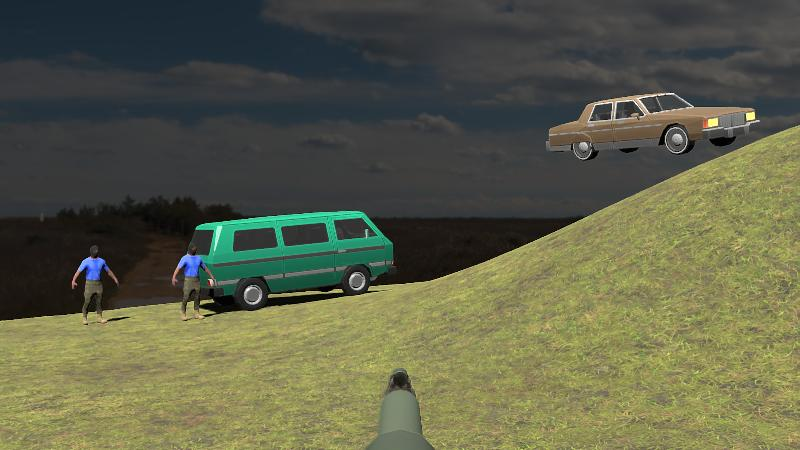Human: (72, 244, 119, 327), (173, 241, 215, 321)
car: (189, 210, 397, 311), (547, 91, 760, 163)
